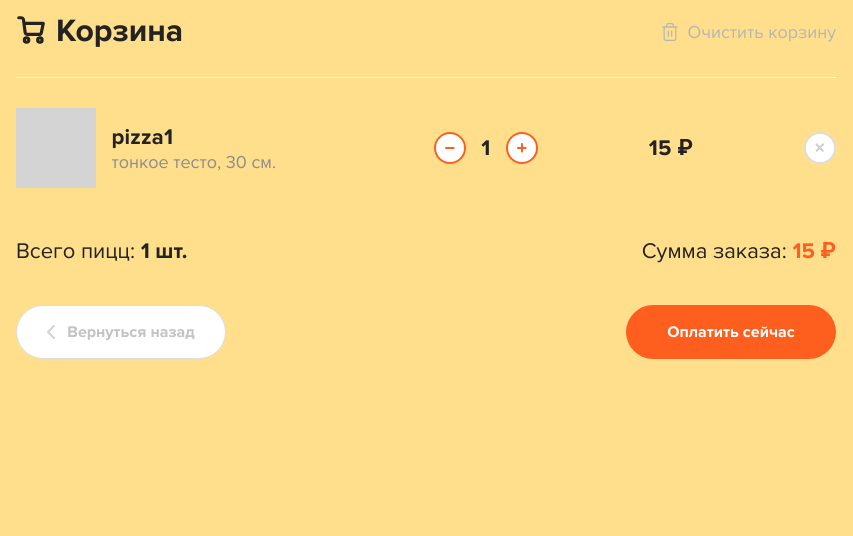
Test: cart page render › cart with item should remove item
expect the text "1 шт." is shown: met, box [141,238,187,265]
Click the button with test id "cart-item-row-remove". click: (820, 148)
box: [804,132,836,164]
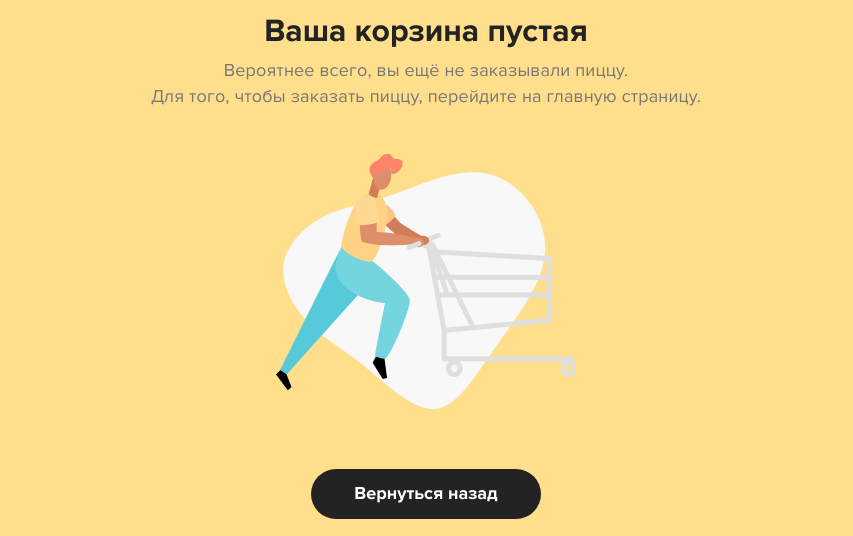
expect the text "1 шт" is gone: met
